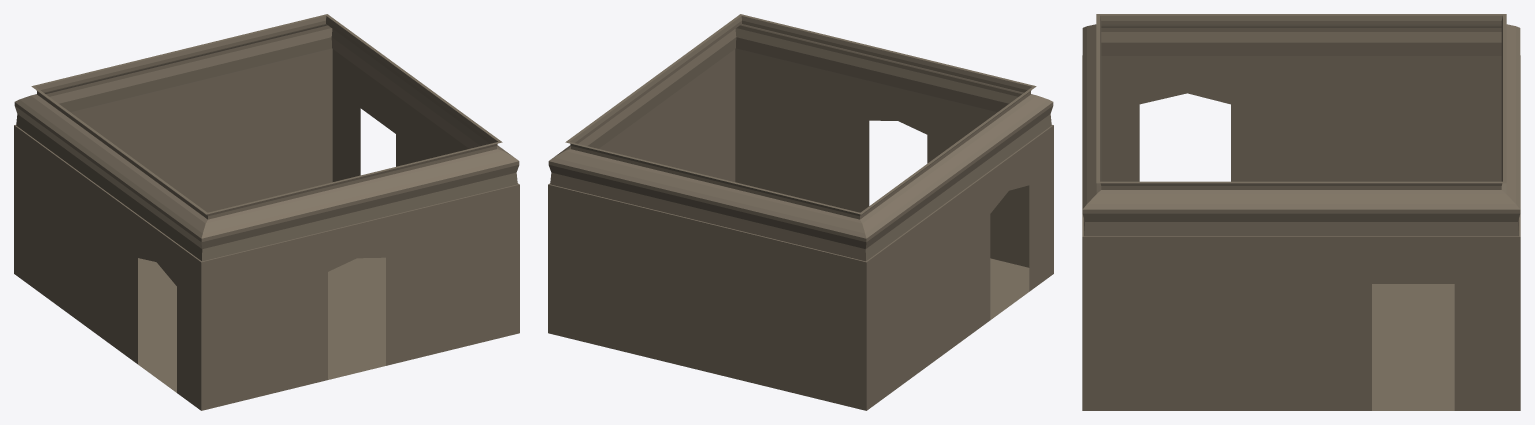
File: SaloVigata-Modelat.fbx
3 views of the same model, side by side, from view 1: azimuth 30°, elevation 25°; view 2: azimuth 150°, elevation 25°; view 3: azimuth 270°, elevation 25° (orthographic). The views are drawn at different scales.
Parts seen in each view (by area): view 1: Salo Vigata.002; view 2: Salo Vigata.002; view 3: Salo Vigata.002.
Part boxes in pixels (<box>): Salo Vigata.002: <box>14,14,519,410</box>; Salo Vigata.002: <box>548,14,1053,410</box>; Salo Vigata.002: <box>1082,14,1520,410</box>.
Bounding box in the file's own units: 1076 × 611 × 1096.
